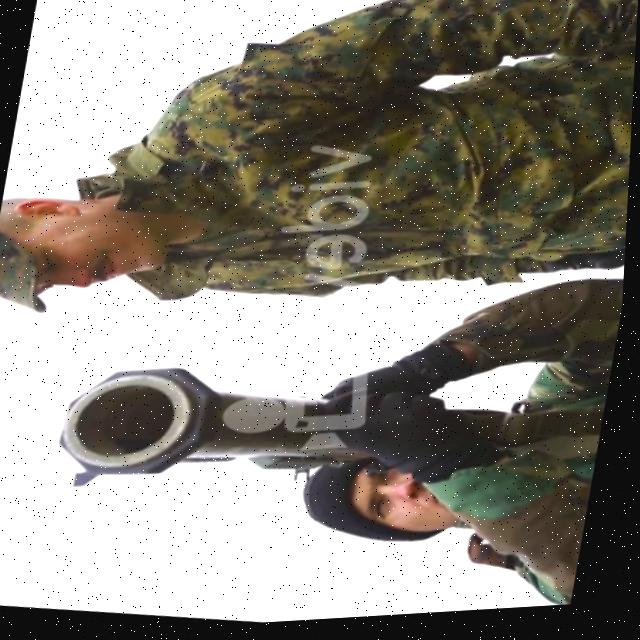rocket: (42, 319, 400, 530)
